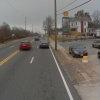cars: (66, 42, 90, 60), (38, 39, 50, 50)
